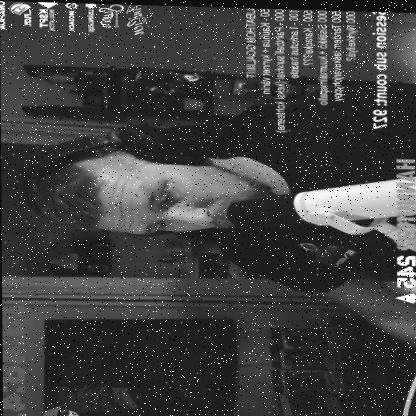streamer: (16, 72, 416, 351)
